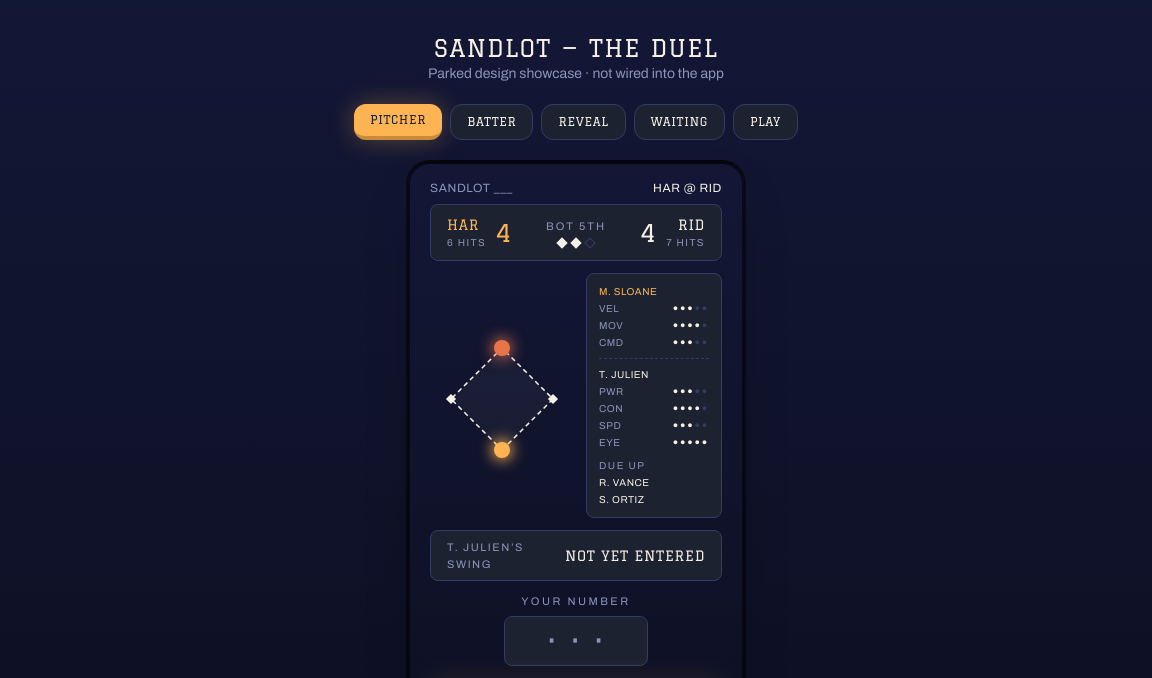
Test: DesignShowcase › shows the async waiting state with the scoreboard
Click the button "WAITING".
click(679, 122)  # box [634,104,725,140]
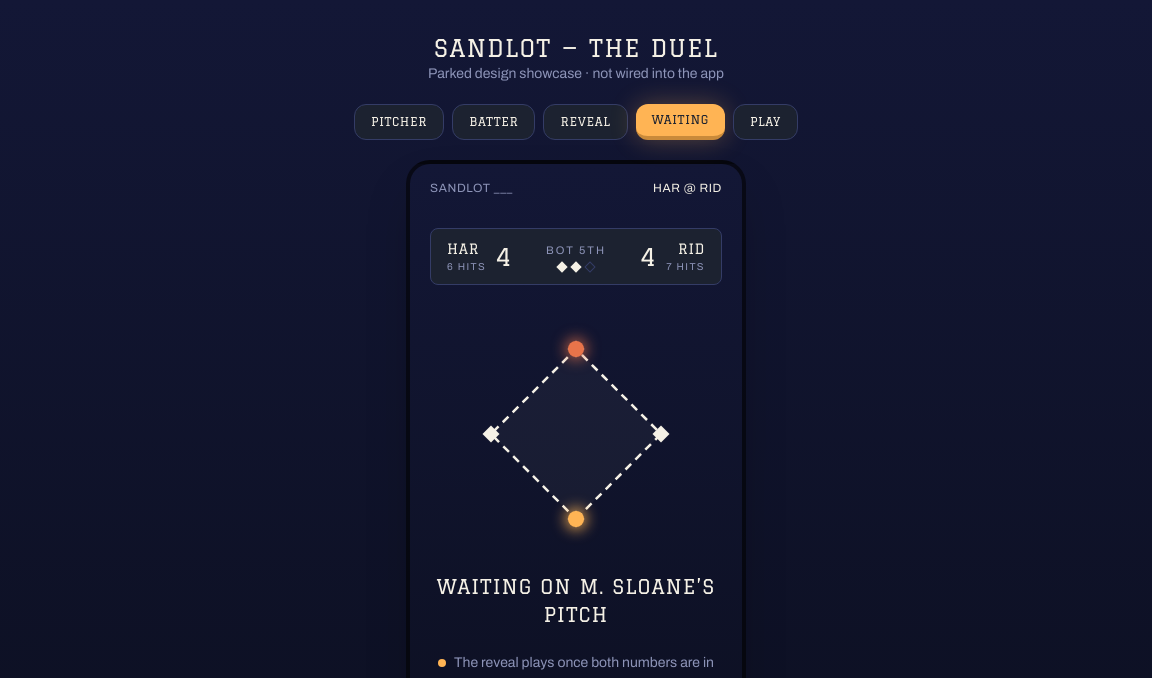
Check: the text "HAR" is shown, box [447,239,479,259]
Check: the text "WAITING ON M. SLOANE’S PITCH" is shown, box [430,573,722,629]
